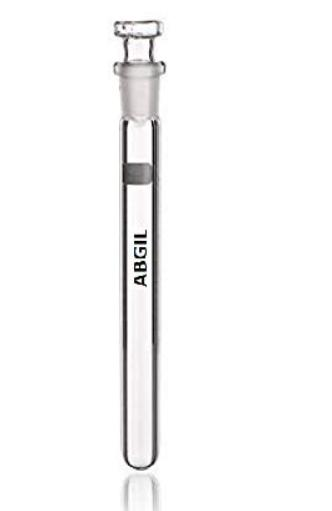Test tube: (94, 18, 177, 473)
